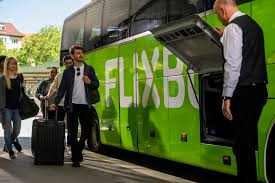bus: (61, 1, 275, 183)
